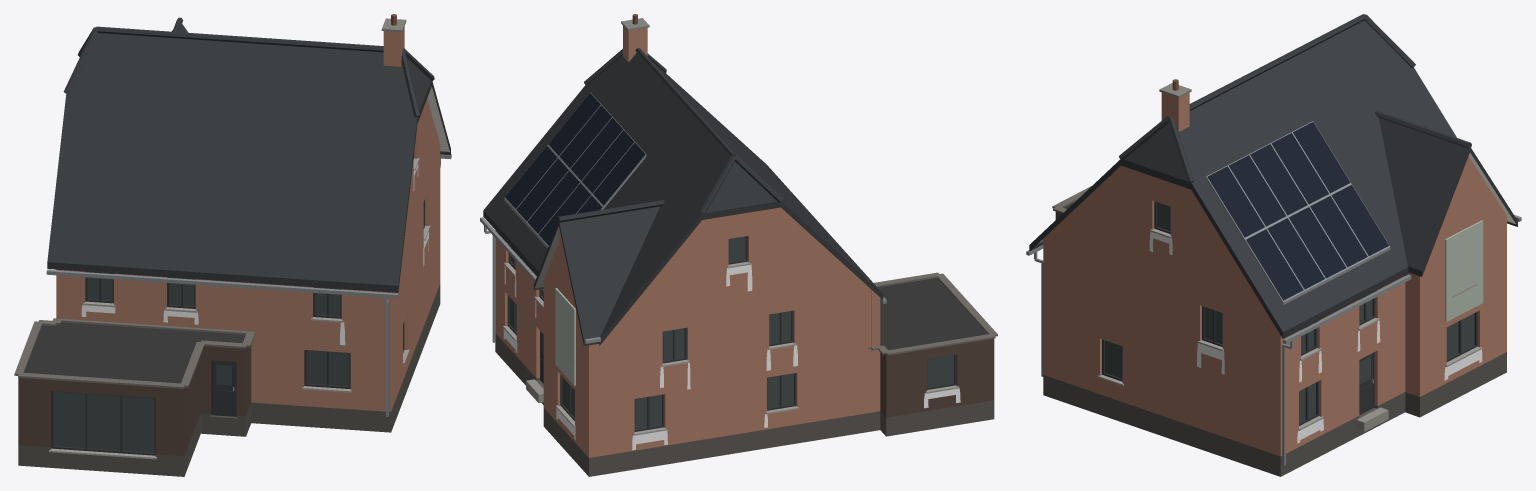
File: vh_tall_gable.glb
3 renders of one model, left to right at view 1: azimuth 30°, elevation 25°; view 2: azimuth 150°, elevation 25°; view 3: azimuth 270°, elevation 25°, orthographic. The views are drawn at different scales.
Parts seen in each view (by area): view 1: vh_roof, vh_brick, vh_stone, vh_trim, vh_glass, vh_dark, vh_frames_small, vh_streaks_small; view 2: vh_brick, vh_roof, vh_trim, vh_solar, vh_stone, vh_dark, vh_glass, vh_frames_small, vh_streaks_small, vh_clad; view 3: vh_brick, vh_roof, vh_solar, vh_trim, vh_frames_small, vh_glass, vh_clad, vh_stone, vh_streaks_small.
Boxes of the visible parts, x1=… form: vh_roof: x1=47, y1=17, x2=434, y2=285; vh_brick: x1=56, y1=27, x2=440, y2=411; vh_stone: x1=14, y1=14, x2=430, y2=459; vh_trim: x1=18, y1=81, x2=450, y2=476; vh_glass: x1=53, y1=271, x2=348, y2=452; vh_dark: x1=18, y1=345, x2=251, y2=456; vh_frames_small: x1=46, y1=153, x2=451, y2=455; vh_streaks_small: x1=81, y1=163, x2=428, y2=345; vh_brick: x1=495, y1=26, x2=880, y2=457; vh_roof: x1=483, y1=47, x2=881, y2=340; vh_trim: x1=483, y1=201, x2=994, y2=476; vh_solar: x1=504, y1=92, x2=646, y2=248; vh_stone: x1=503, y1=14, x2=997, y2=435; vh_dark: x1=880, y1=338, x2=994, y2=417; vh_glass: x1=510, y1=236, x2=953, y2=429; vh_frames_small: x1=480, y1=217, x2=956, y2=431; vh_streaks_small: x1=503, y1=264, x2=960, y2=450; vh_clad: x1=555, y1=288, x2=575, y2=385; vh_brick: x1=1043, y1=92, x2=1506, y2=456; vh_roof: x1=1119, y1=14, x2=1471, y2=331; vh_solar: x1=1206, y1=121, x2=1390, y2=304; vh_trim: x1=1029, y1=148, x2=1517, y2=476; vh_frames_small: x1=1026, y1=201, x2=1521, y2=465; vh_glass: x1=1105, y1=202, x2=1474, y2=422; vh_clad: x1=1445, y1=220, x2=1483, y2=321; vh_stone: x1=1052, y1=79, x2=1482, y2=431; vh_streaks_small: x1=1149, y1=231, x2=1482, y2=443.
Size of the model in its own units: 19.49 by 13.12 by 16.9.
